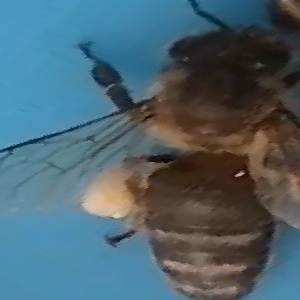bee: (30, 3, 297, 300)
